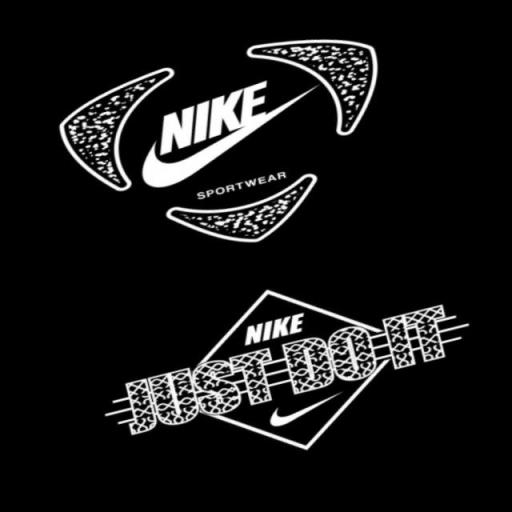Nike: (260, 390, 346, 431), (237, 310, 308, 352)
